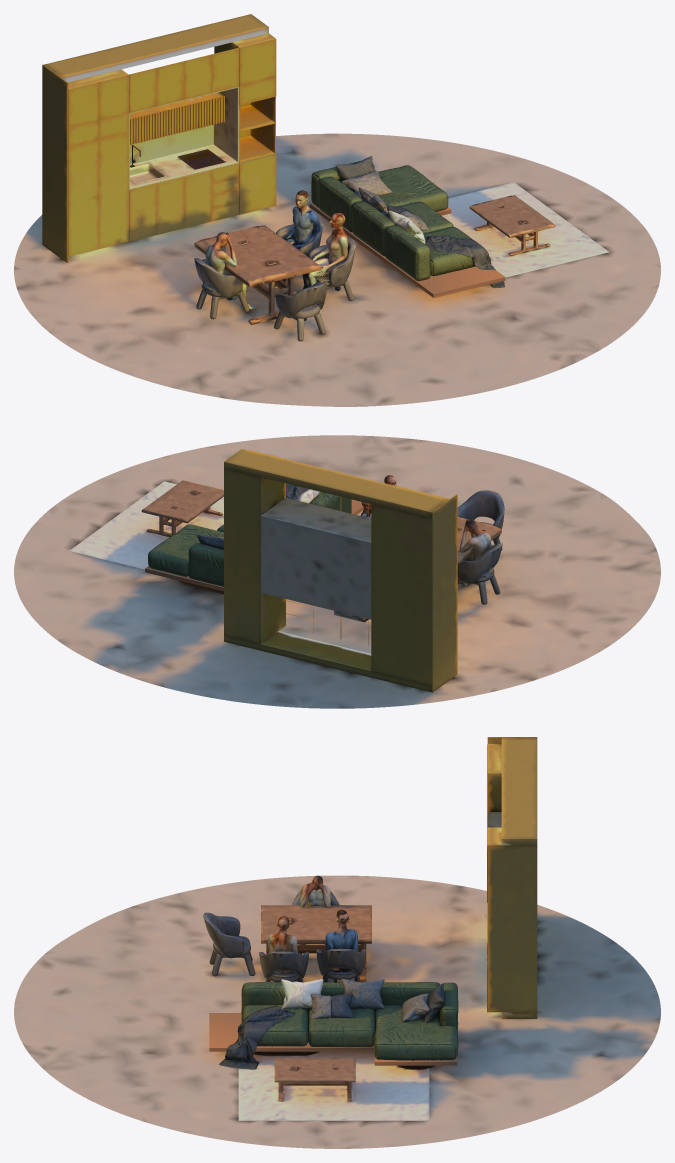
File: meal2.glb
The picture shows the model from 3 angles, top to bottom: view 1: azimuth 30°, elevation 25°; view 2: azimuth 150°, elevation 25°; view 3: azimuth 270°, elevation 25°; orthographic projection.
Visible parts, largest first — view 1: Circle, armoire, salon, table, parents, ben; view 2: Circle, armoire, salon, ben, table; view 3: Circle, salon, armoire, table, parents, ben.
Boxes of the visible parts, left/top/right/bottom form: Circle: left=14, top=133, right=660, bottom=406; armoire: left=42, top=14, right=276, bottom=262; salon: left=309, top=156, right=609, bottom=297; table: left=194, top=225, right=327, bottom=341; parents: left=274, top=190, right=355, bottom=309; ben: left=194, top=232, right=256, bottom=319; Circle: left=14, top=435, right=660, bottom=708; armoire: left=224, top=449, right=457, bottom=692; salon: left=69, top=480, right=363, bottom=594; ben: left=457, top=519, right=502, bottom=604; table: left=457, top=490, right=504, bottom=564; Circle: left=14, top=875, right=660, bottom=1148; salon: left=209, top=979, right=458, bottom=1120; armoire: left=487, top=737, right=537, bottom=1018; table: left=203, top=905, right=371, bottom=982; parents: left=259, top=909, right=366, bottom=982; ben: left=292, top=875, right=339, bottom=954.
Bounding box in the file's own units: 9.12 × 2.82 × 9.12.
